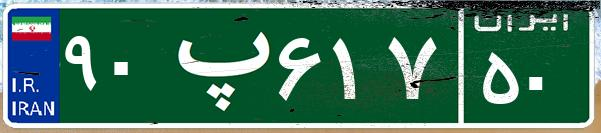0: (110, 28, 158, 105), (525, 38, 570, 115)
1: (330, 28, 385, 110)
5: (475, 38, 525, 113)
6: (273, 28, 330, 110)
7: (385, 28, 445, 110)
9: (57, 26, 110, 107)
پ: (158, 15, 273, 115)
